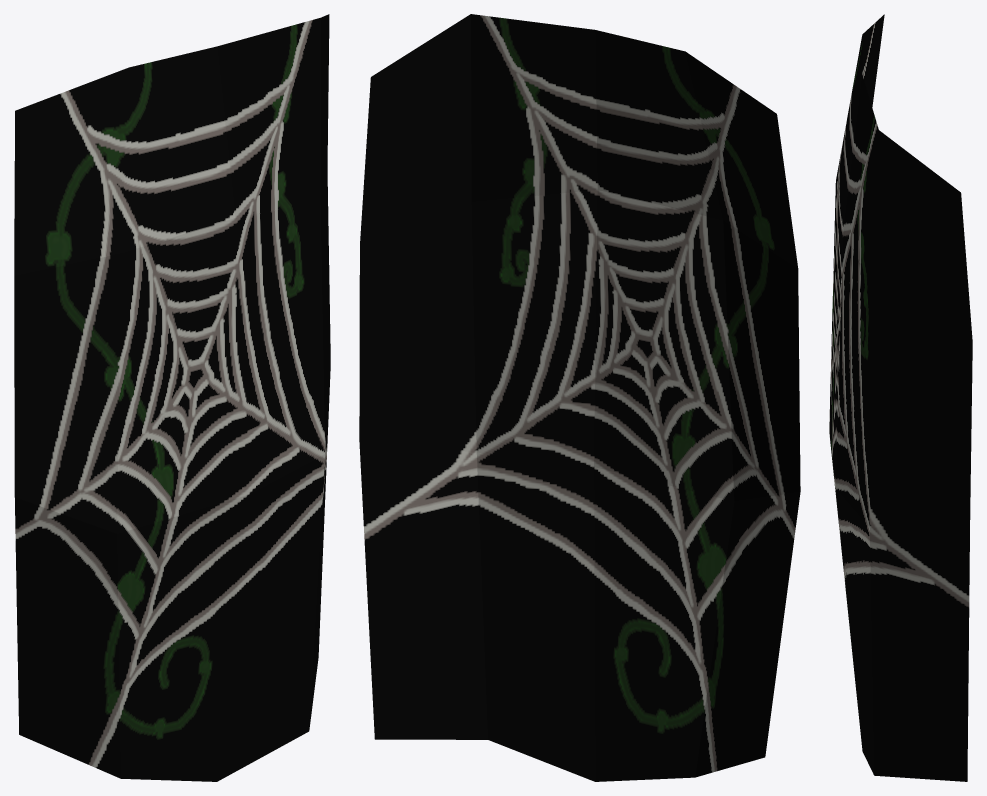
The model's file is SpiderWeb.fbx.
The picture shows the model from 3 angles, left to right: view 1: azimuth 30°, elevation 25°; view 2: azimuth 150°, elevation 25°; view 3: azimuth 270°, elevation 25°; orthographic projection. The views are drawn at different scales.
Visible parts, largest first — view 1: Plane; view 2: Plane; view 3: Plane.
Part boxes in pixels (<box>): Plane: <box>14,14,330,781</box>; Plane: <box>359,14,800,781</box>; Plane: <box>829,14,972,781</box>.
Size of the model in its own units: 2.35 by 4.42 by 0.8478.
